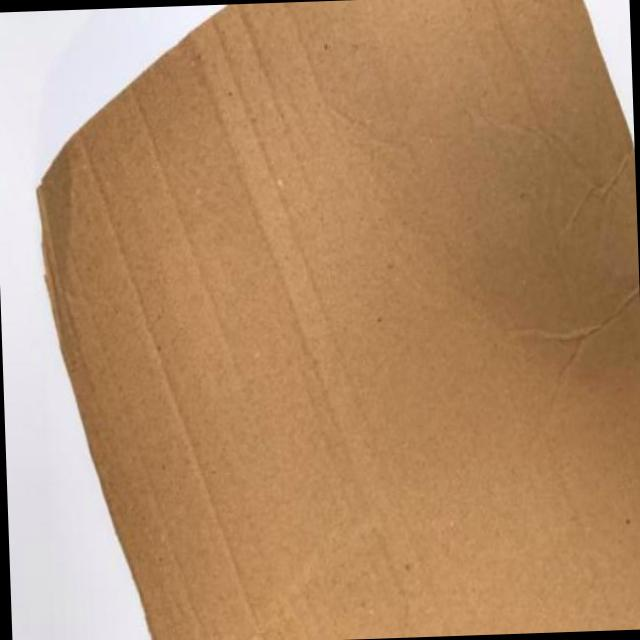cardboard paper: (36, 0, 640, 640)
